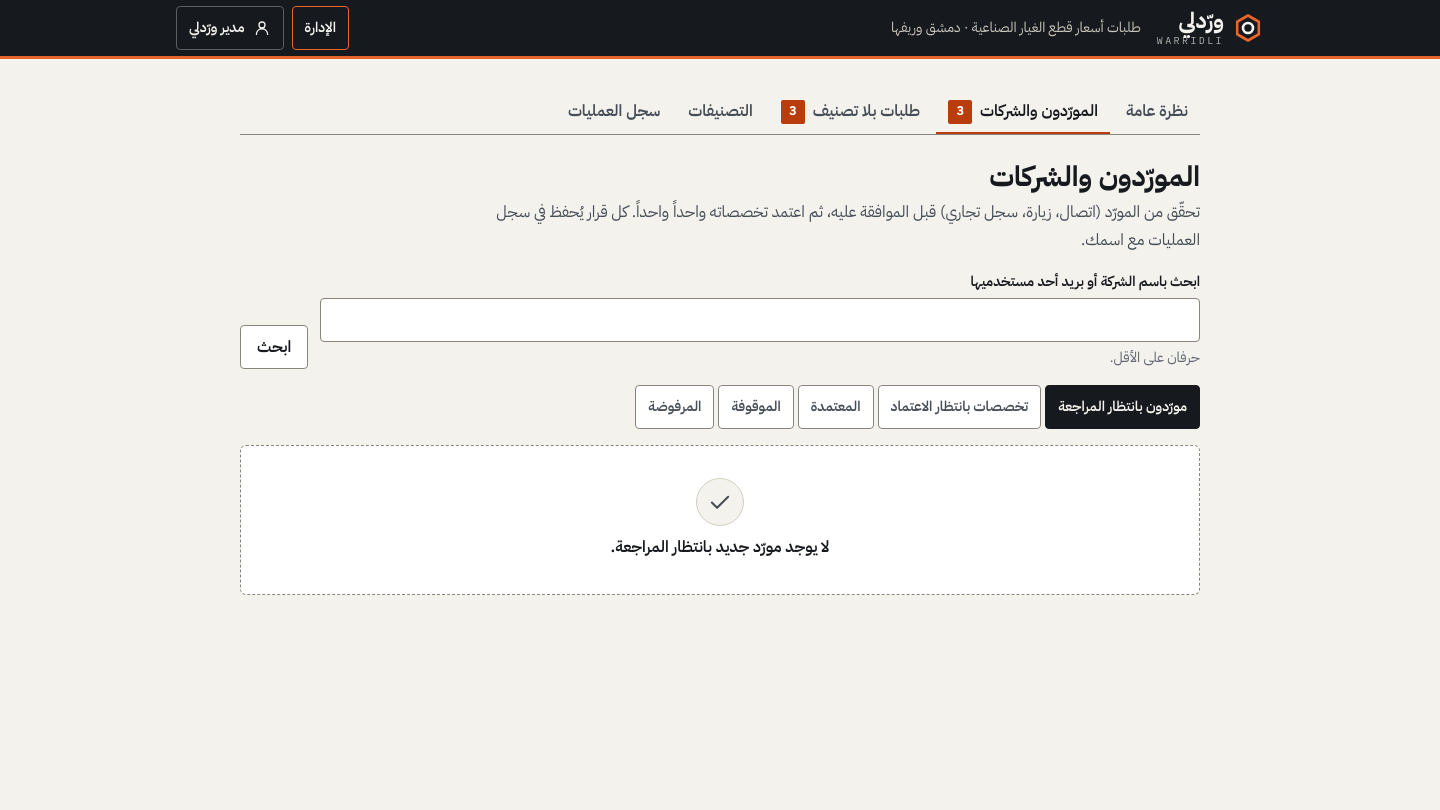
Test: supplier vetting › searches across all companies
This screenshot has width=1440, height=810.
Expected: the text "لا يوجد مورّد جديد بانتظار المراجعة." is shown, [610,534,830,562]
Type "النور" into the search field.
click(760, 320); type("النور")  # box [320,298,1200,342]
Then press Enter
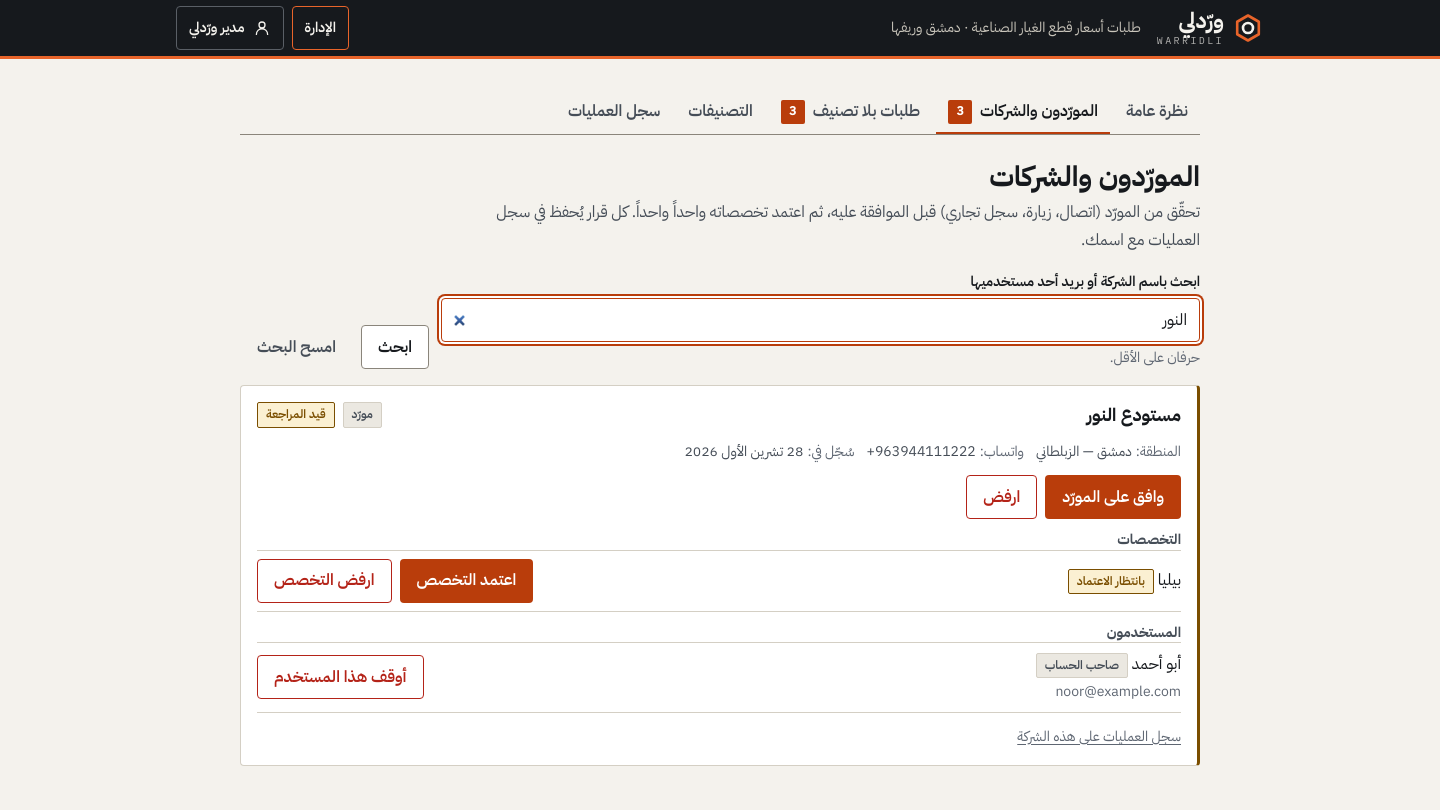
Expected: the heading "مستودع النور" is shown, [1087,403,1181,427]
